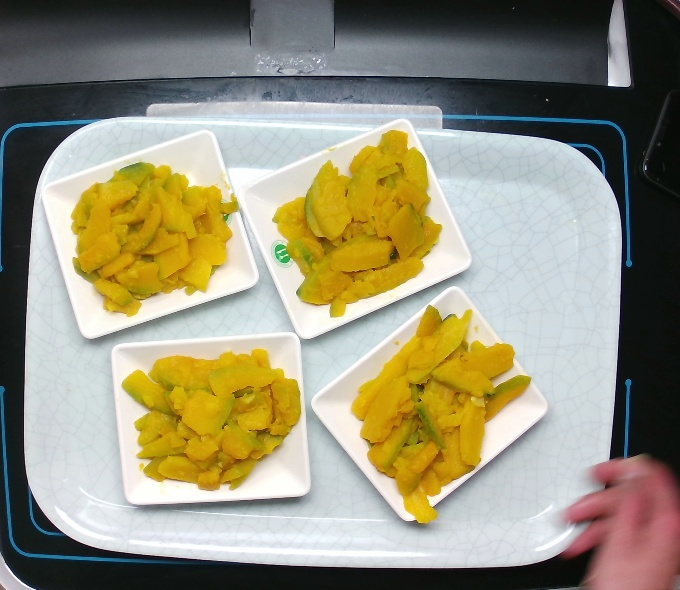wcq-NanGuaPian: (354, 304, 533, 524), (264, 125, 443, 308), (119, 337, 302, 499), (65, 158, 248, 320)
